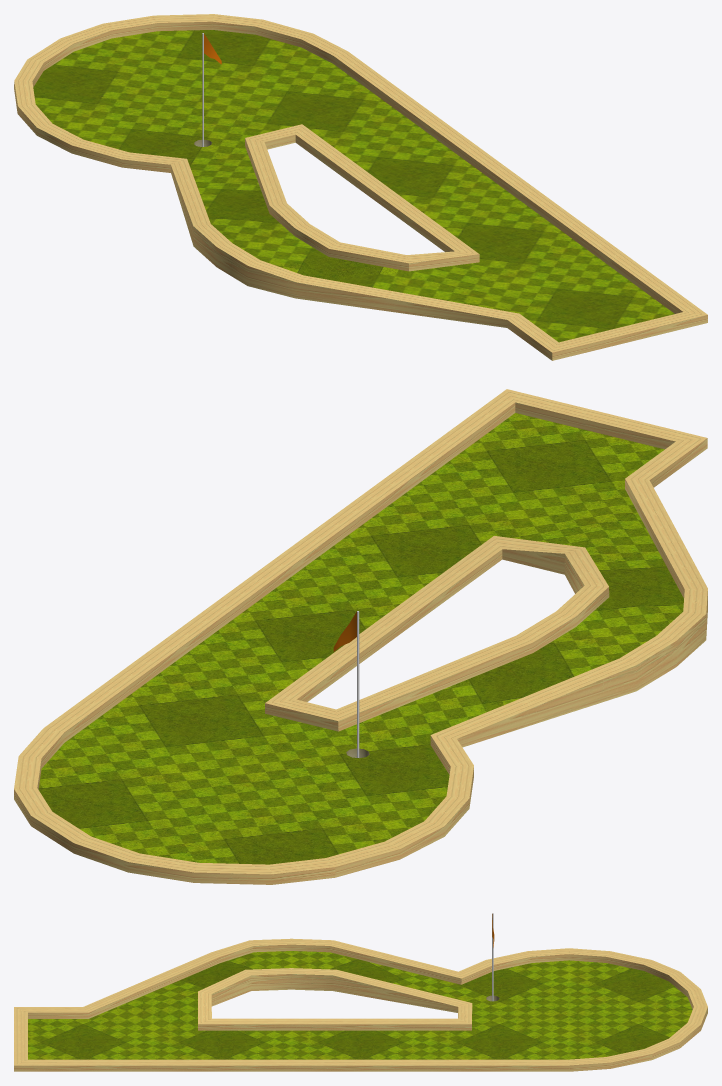
File: course1_hole17.fbx
3 renders of one model, top to bottom at view 1: azimuth 30°, elevation 25°; view 2: azimuth 150°, elevation 25°; view 3: azimuth 270°, elevation 25°, orthographic. The views are drawn at different scales.
Parts seen in each view (by area): view 1: course1_hole17_ground, course1_hole17_walls; view 2: course1_hole17_ground, course1_hole17_walls, course1_hole17_flag; view 3: course1_hole17_ground, course1_hole17_walls.
Part boxes in pixels (left/top/right/bottom): course1_hole17_ground: left=33, top=30, right=674, bottom=342; course1_hole17_walls: left=14, top=14, right=707, bottom=360; course1_hole17_ground: left=38, top=413, right=683, bottom=864; course1_hole17_walls: left=14, top=389, right=707, bottom=884; course1_hole17_flag: left=333, top=611, right=359, bottom=757; course1_hole17_ground: left=28, top=951, right=692, bottom=1059; course1_hole17_walls: left=14, top=938, right=707, bottom=1071.
Size of the model in its own units: 6 by 2.25 by 15.
